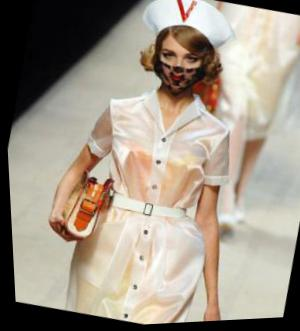WRONG: (149, 37, 208, 101)
